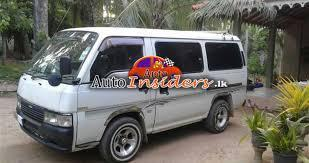van: (14, 26, 254, 150)
